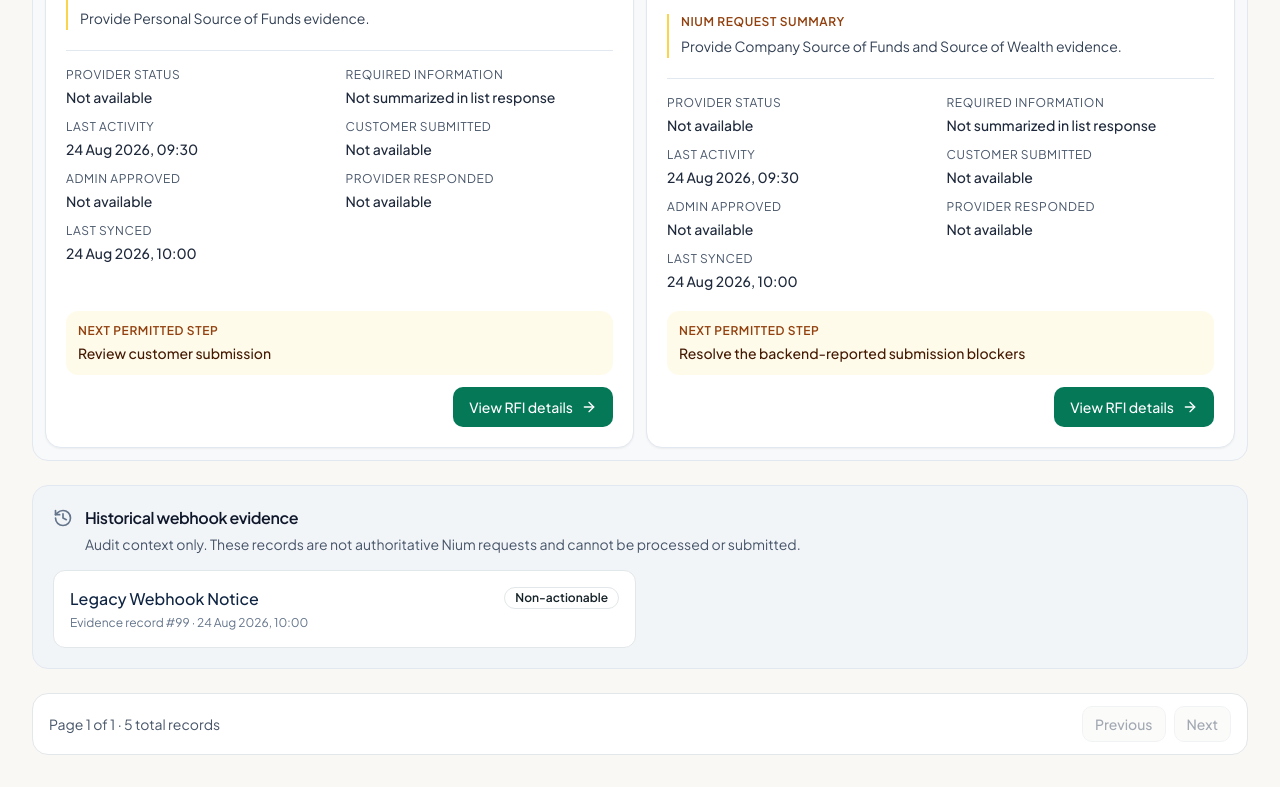
it: fails closed when live submission readiness fields are missing
(page scrolled)
Click the 2nd button "View RFI details".
click(1134, 407)  # box x1=1054 y1=387 x2=1214 y2=427
(page scrolled)
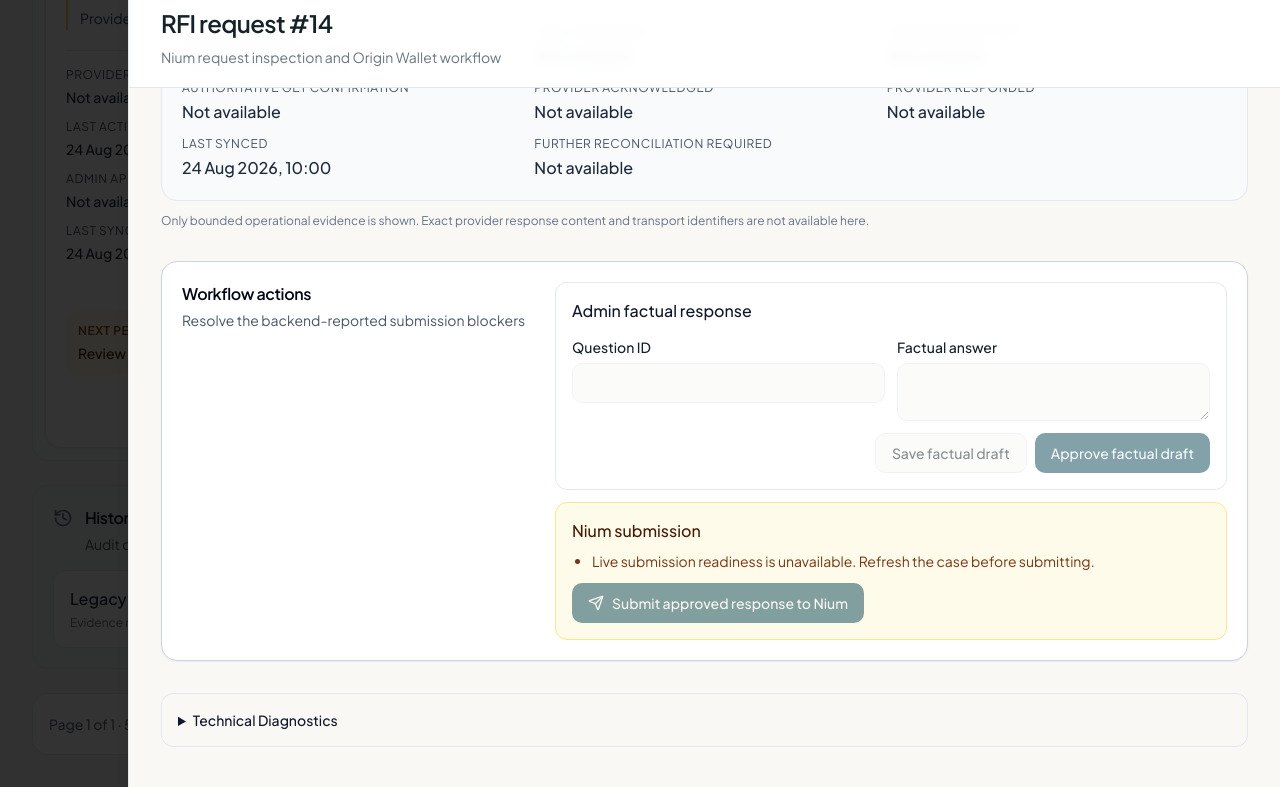
Check: the list item "Live submission readiness is unavailable" is shown, box x1=592 y1=552 x2=1095 y2=570
Check: the button "Submit approved response to Nium" is disabled, box x1=572 y1=583 x2=864 y2=623
